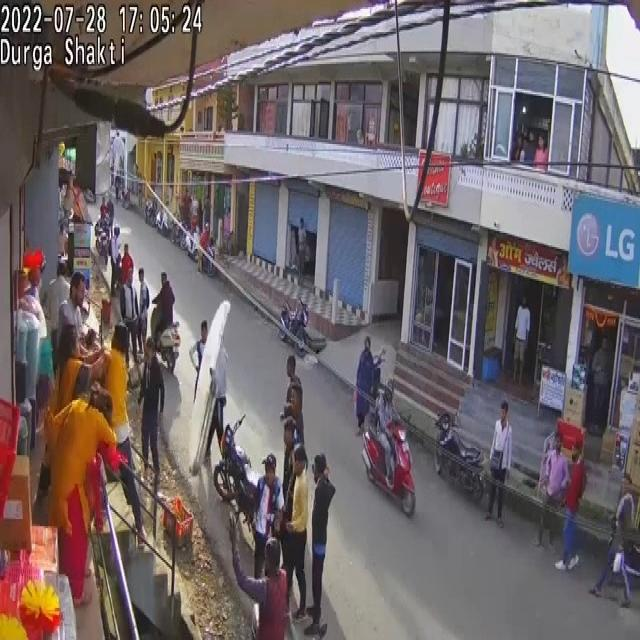fight: (8, 201, 195, 626), (218, 338, 339, 636), (48, 378, 121, 606), (30, 331, 93, 516), (94, 326, 143, 545), (54, 326, 102, 424)
non-fight: (230, 517, 292, 640), (588, 474, 635, 604), (304, 454, 336, 638), (278, 445, 310, 624), (552, 440, 589, 574), (250, 452, 284, 582), (138, 336, 165, 484), (536, 429, 568, 553), (483, 398, 513, 527), (191, 320, 219, 448), (119, 265, 143, 366), (355, 336, 378, 434), (281, 355, 304, 448), (280, 418, 301, 512), (151, 272, 175, 351), (513, 295, 531, 384), (108, 222, 123, 295)
